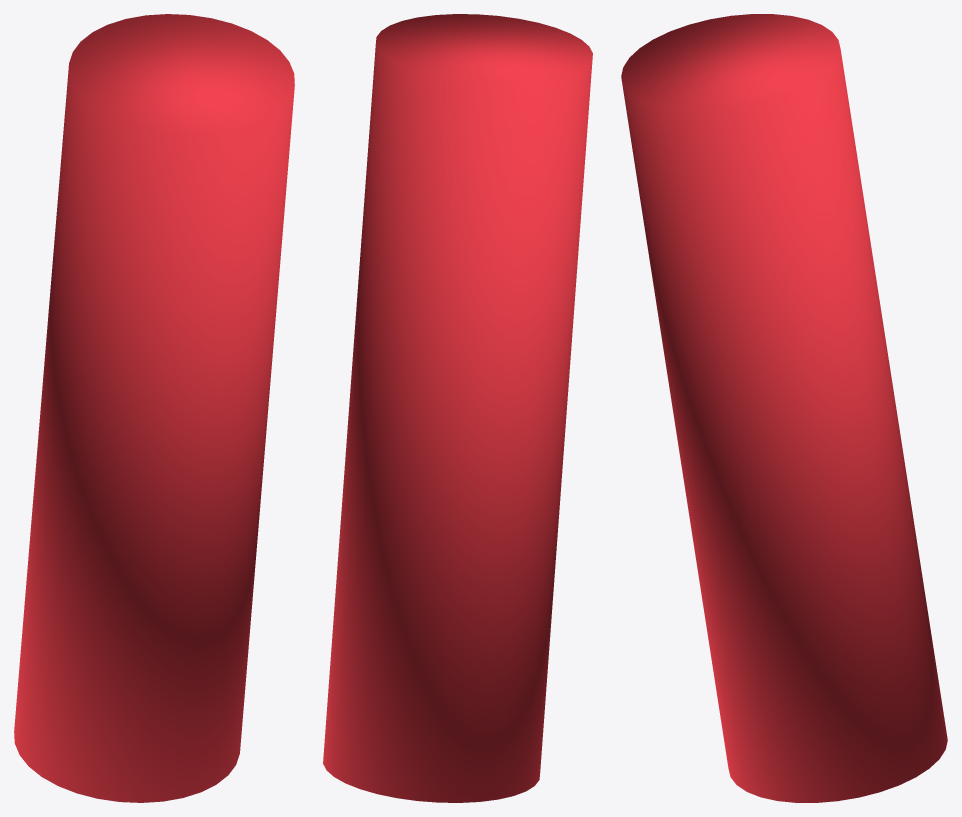
File: GEO_GT3_SUPERCAR_Suspension_Coilover_Spring_RR.glb
3 renders of one model, left to right at view 1: azimuth 30°, elevation 25°; view 2: azimuth 150°, elevation 25°; view 3: azimuth 270°, elevation 25°, orthographic. The views are drawn at different scales.
Parts seen in each view (by area): view 1: GEO_GT3_SUPERCAR_Suspension_Coilover_Spring_RR; view 2: GEO_GT3_SUPERCAR_Suspension_Coilover_Spring_RR; view 3: GEO_GT3_SUPERCAR_Suspension_Coilover_Spring_RR.
Part boxes in pixels (x1,y1,x2,y2): GEO_GT3_SUPERCAR_Suspension_Coilover_Spring_RR: (14,14,294,802); GEO_GT3_SUPERCAR_Suspension_Coilover_Spring_RR: (323,14,592,802); GEO_GT3_SUPERCAR_Suspension_Coilover_Spring_RR: (621,14,947,802).
Bounding box in the file's own units: 0.092 × 0.3297 × 0.1356.
